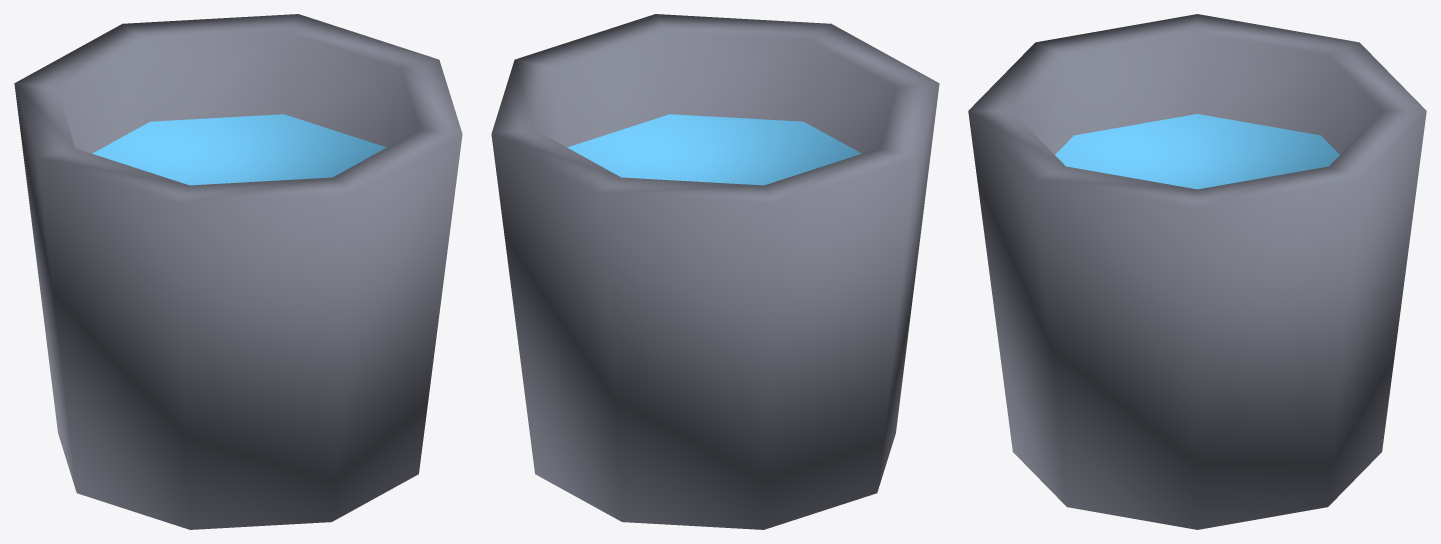
Rendered from bucketWithFish 1.fbx.
3 renders of one model, left to right at view 1: azimuth 30°, elevation 25°; view 2: azimuth 150°, elevation 25°; view 3: azimuth 270°, elevation 25°, orthographic.
Visible parts, largest first — view 1: Cylinder.005; view 2: Cylinder.005; view 3: Cylinder.005.
Part boxes in pixels (box(x1,y1,x2,y2)): Cylinder.005: box(14, 14, 462, 529); Cylinder.005: box(491, 14, 939, 529); Cylinder.005: box(968, 14, 1426, 529).
Bounding box in the file's own units: 63.44 × 52.06 × 63.44.
